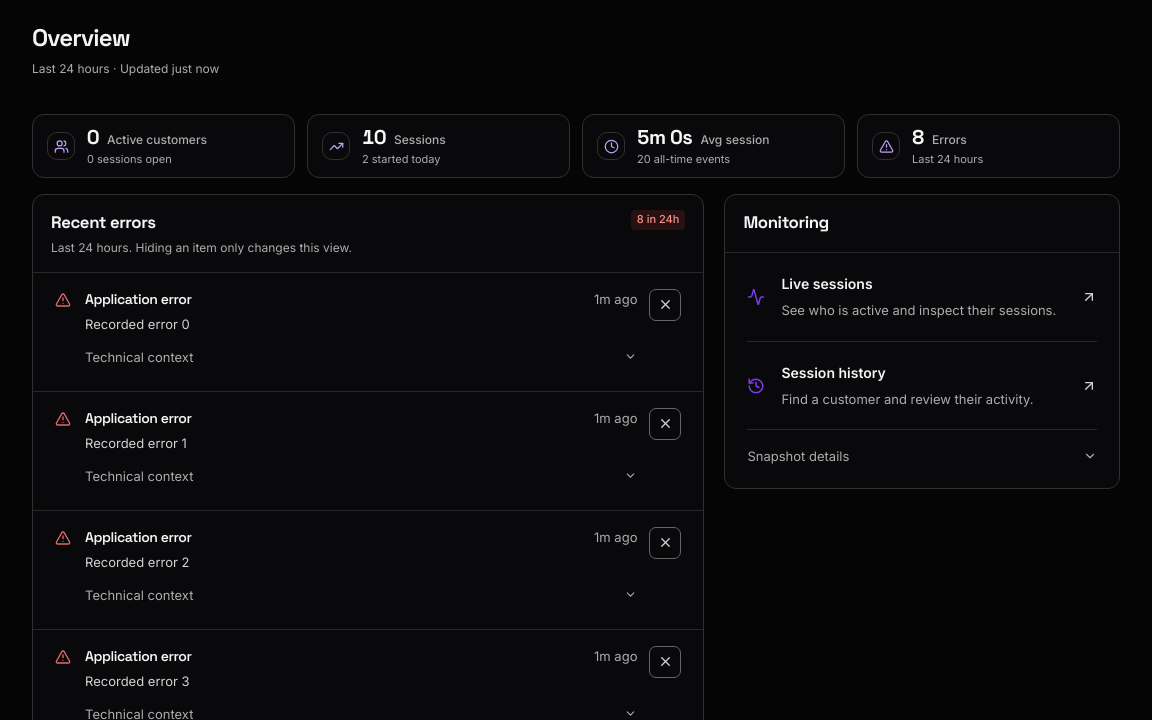
it: monitoring overview workspace › fills the visible six slots with subsequent events after dismissal
Click the button named "Hide error 0 for this visit".
click(665, 305)  # box [649,289,681,321]
(page scrolled)
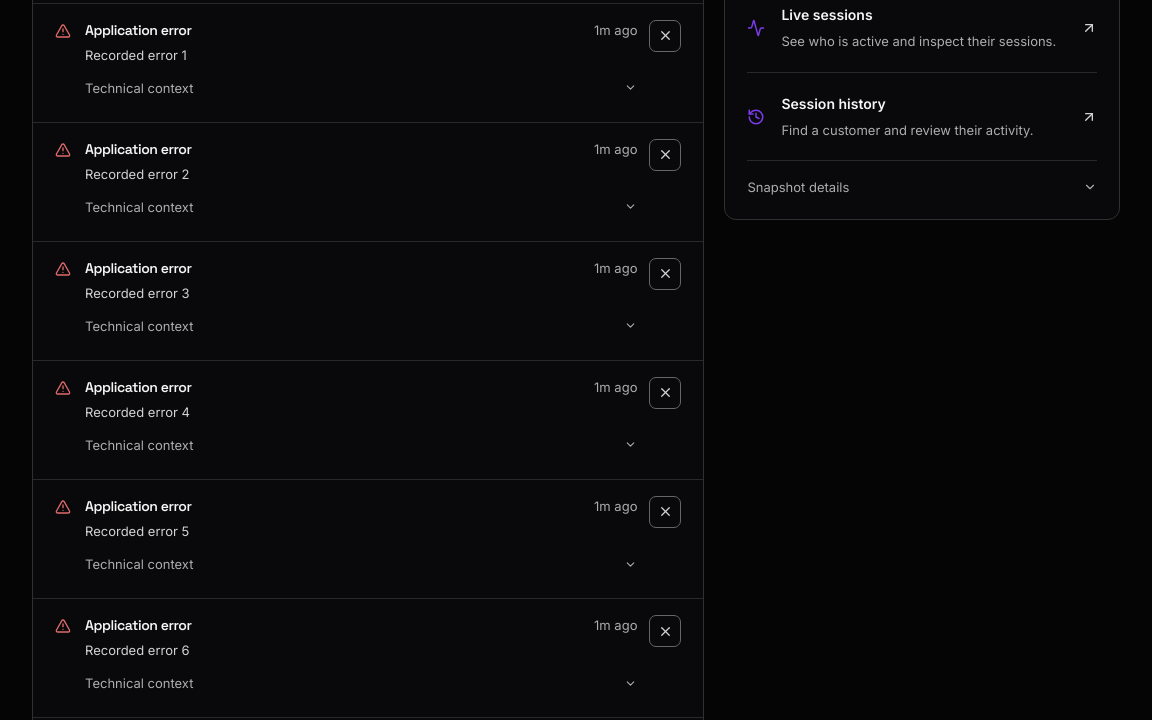
Expected: the number of list items with class "overview-error" is 6, [33,4,703,122]; [33,122,703,241]; [33,241,703,360]; [33,360,703,479]; [33,479,703,598]; [33,598,703,717]
Expected: the list with class "overview-error-list" shows "Recorded error 6", [85,642,190,658]
Expected: the text with class "overview-error-list" no longer shows "Recorded error 0"
